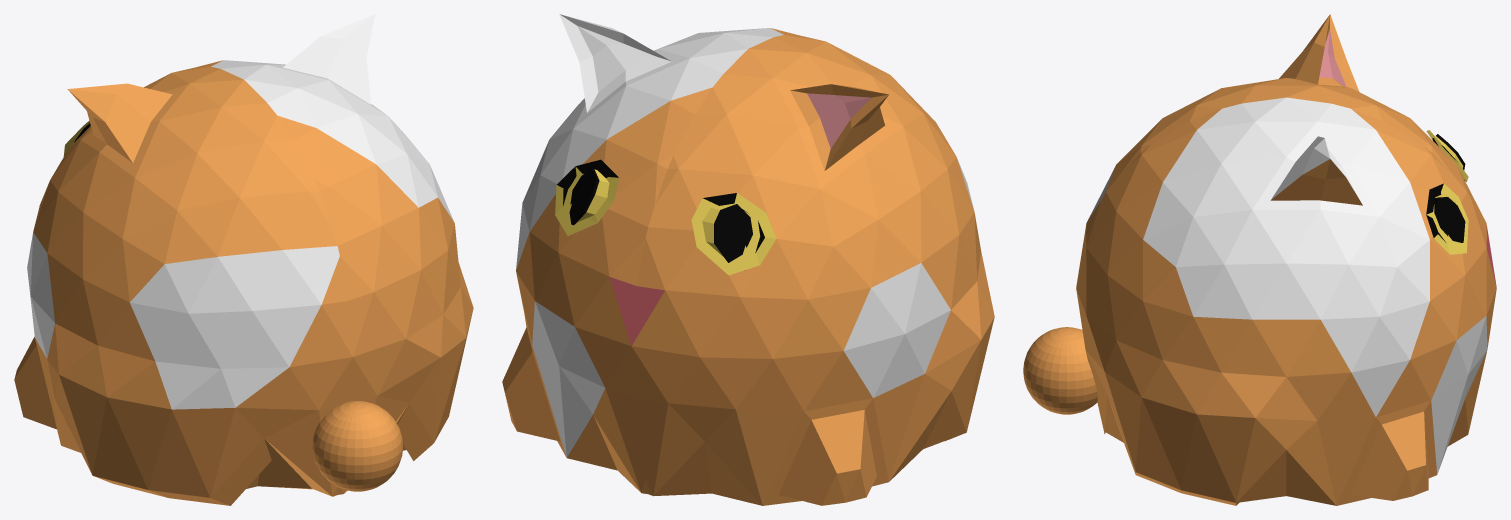
File: LawnmowerCat.fbx
3 renders of one model, left to right at view 1: azimuth 30°, elevation 25°; view 2: azimuth 150°, elevation 25°; view 3: azimuth 270°, elevation 25°, orthographic. The views are drawn at different scales.
Visible parts, largest first — view 1: Sphere; view 2: Sphere; view 3: Sphere.
Boxes of the visible parts, x1,y1,x2,y2 form: Sphere: [14, 14, 473, 505]; Sphere: [502, 14, 994, 505]; Sphere: [1023, 14, 1496, 505].
Bounding box in the file's own units: 2.13 × 1.81 × 2.25.
